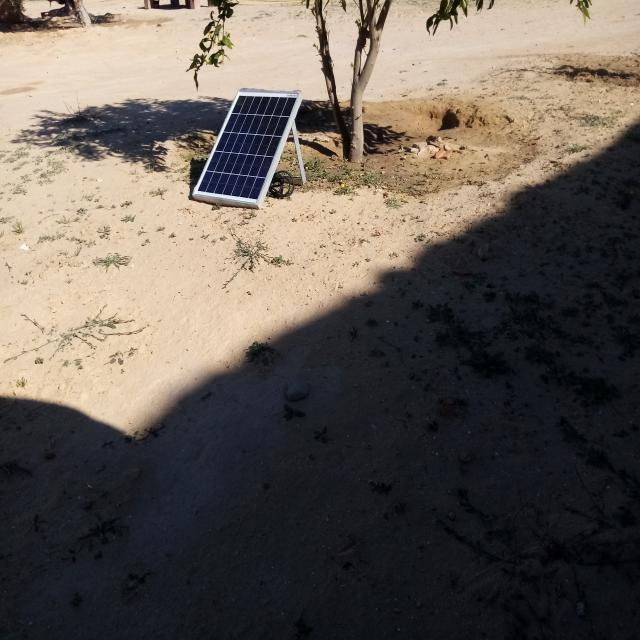no faulty: (193, 90, 300, 206)
